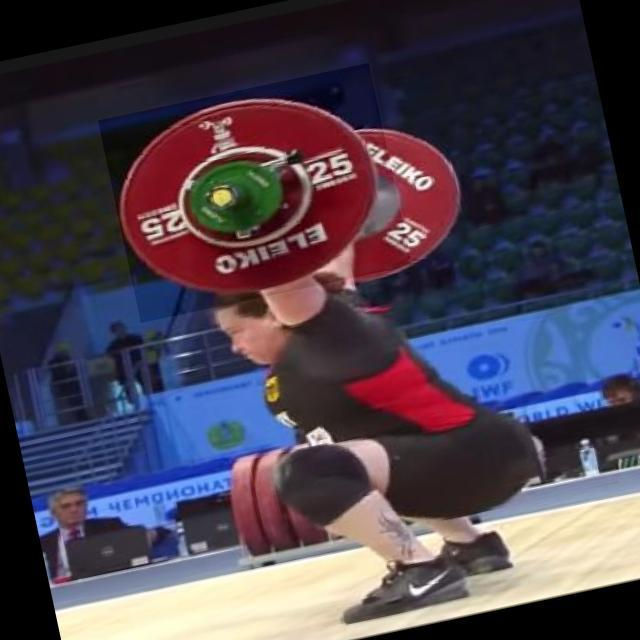barbell: (99, 64, 413, 324)
